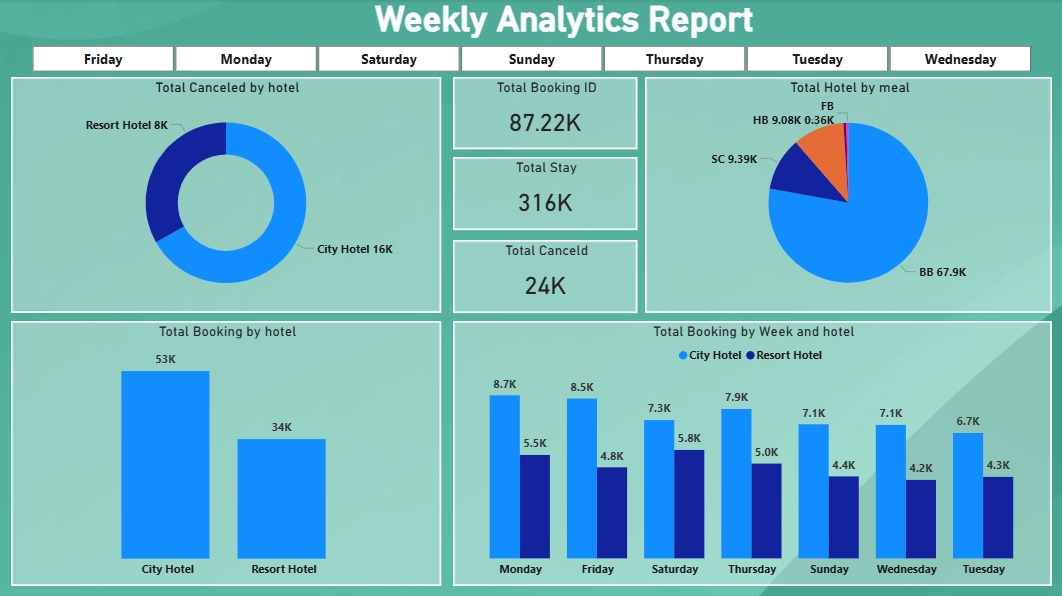

The page's visual inventory and layout, read from the dashboard file:
{"tool":"powerbi","page":{"name":"Page 2","canvas":[1280,720],"ordinal":1},"visuals":[{"type":"columnChart","fields":{"Y":["CountNonNull(Sheet1.Booking ID)"],"Category":["Sheet1.hotel"]},"box":[13.2,388.2,517.6,319.1],"z":0},{"type":"donutChart","fields":{"Y":["Sum(Sheet1.is_canceled)"],"Category":["Sheet1.hotel"]},"box":[13.2,94.1,517.6,283.8],"z":1000},{"type":"clusteredColumnChart","fields":{"Y":["CountNonNull(Sheet1.Booking ID)"],"Category":["Sheet1.Week_Column"],"Series":["Sheet1.hotel"]},"box":[545.6,388.2,720.6,319.1],"z":2000},{"type":"pieChart","fields":{"Category":["Sheet1.meal"],"Y":["CountNonNull(Sheet1.hotel)"]},"box":[776.5,94.1,489.7,283.8],"z":3000},{"type":"slicer","fields":{"Values":["Sheet1.Week_Column"]},"box":[13.8,49.5,1252.5,44],"z":4000},{"type":"card","title":"Total Booking ID","fields":{"Values":["CountNonNull(Sheet1.Booking ID)"]},"box":[545,93.6,221.6,86.7],"z":5000},{"type":"card","title":"Total Canceld","fields":{"Values":["Sum(Sheet1.is_canceled)"]},"box":[545,290.4,221.6,88.1],"z":6000},{"type":"card","title":"Total Stay","fields":{"Values":["Sum(Sheet1.Total stay)"]},"box":[545,189.9,221.6,88.1],"z":7000},{"type":"textbox","title":"Weekly Analytics Report","box":[79.8,0,1200.2,53.7],"z":8000}]}

Visuals, with their boxes in screenshot pixels (x1, y1, x2, y2), scaled from the page's 1280x720 canvas onto the 1062x596 screenshot:
columnChart - CountNonNull(Sheet1.Booking ID) x Sheet1.hotel: bbox=(11, 321, 440, 585)
donutChart - Sum(Sheet1.is_canceled) x Sheet1.hotel: bbox=(11, 78, 440, 313)
clusteredColumnChart - CountNonNull(Sheet1.Booking ID) x Sheet1.Week_Column: bbox=(453, 321, 1051, 585)
pieChart - Sheet1.meal x CountNonNull(Sheet1.hotel): bbox=(644, 78, 1051, 313)
slicer - Sheet1.Week_Column: bbox=(11, 41, 1051, 77)
"Total Booking ID" card: bbox=(452, 77, 636, 149)
"Total Canceld" card: bbox=(452, 240, 636, 313)
"Total Stay" card: bbox=(452, 157, 636, 230)
"Weekly Analytics Report" textbox: bbox=(66, 0, 1061, 44)
